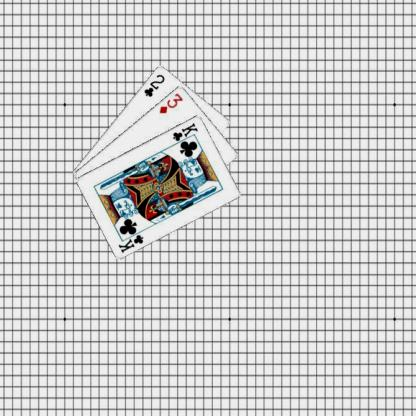2C: (142, 72, 166, 98)
3D: (156, 90, 184, 115)
KC: (116, 227, 144, 254), (170, 120, 199, 146)
